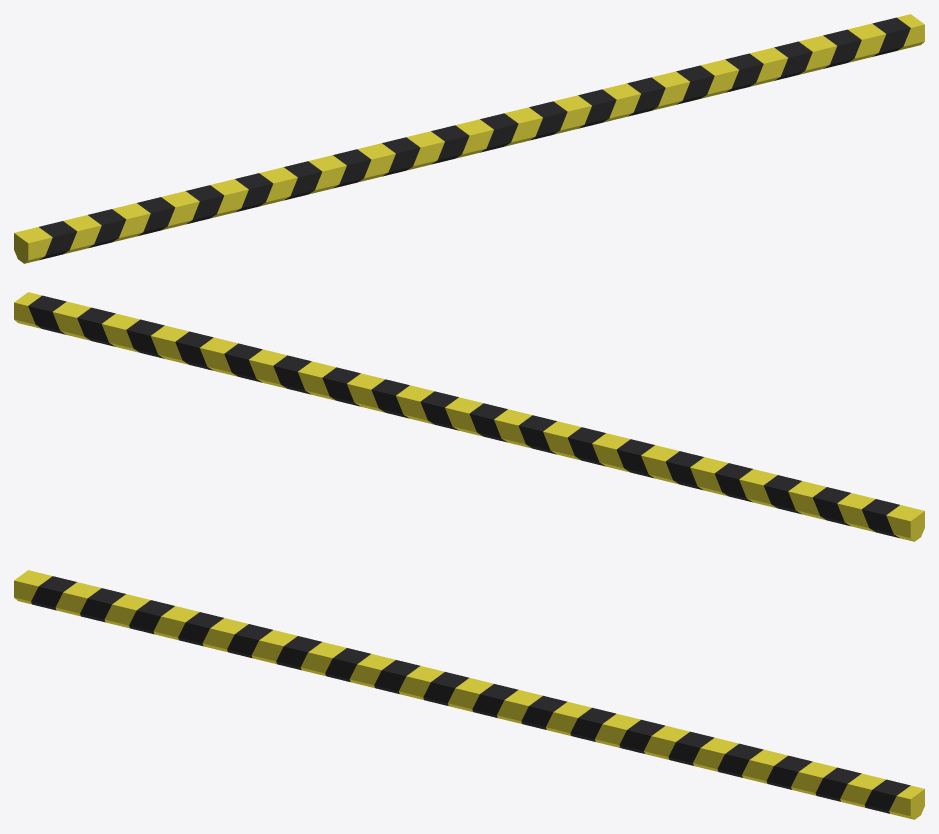
File: 7_Rail.fbx
The picture shows the model from 3 angles, top to bottom: view 1: azimuth 30°, elevation 25°; view 2: azimuth 150°, elevation 25°; view 3: azimuth 330°, elevation 25°; orthographic projection.
Visible parts, largest first — view 1: 7_Rail; view 2: 7_Rail; view 3: 7_Rail.
Boxes of the visible parts, bbox=[...] form: 7_Rail: bbox=[14, 14, 924, 263]; 7_Rail: bbox=[14, 292, 924, 541]; 7_Rail: bbox=[14, 570, 924, 819].
Bounding box in the file's own units: 3292 × 82.22 × 90.72.
